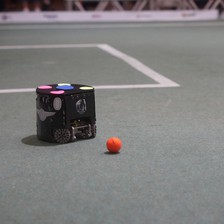ball: (103, 133, 125, 154)
robot: (33, 80, 99, 145)
